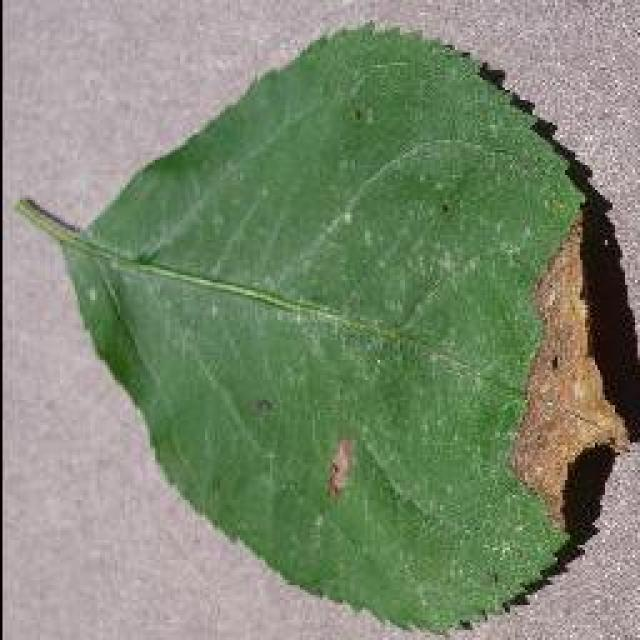apple healthy: (12, 18, 638, 638)
